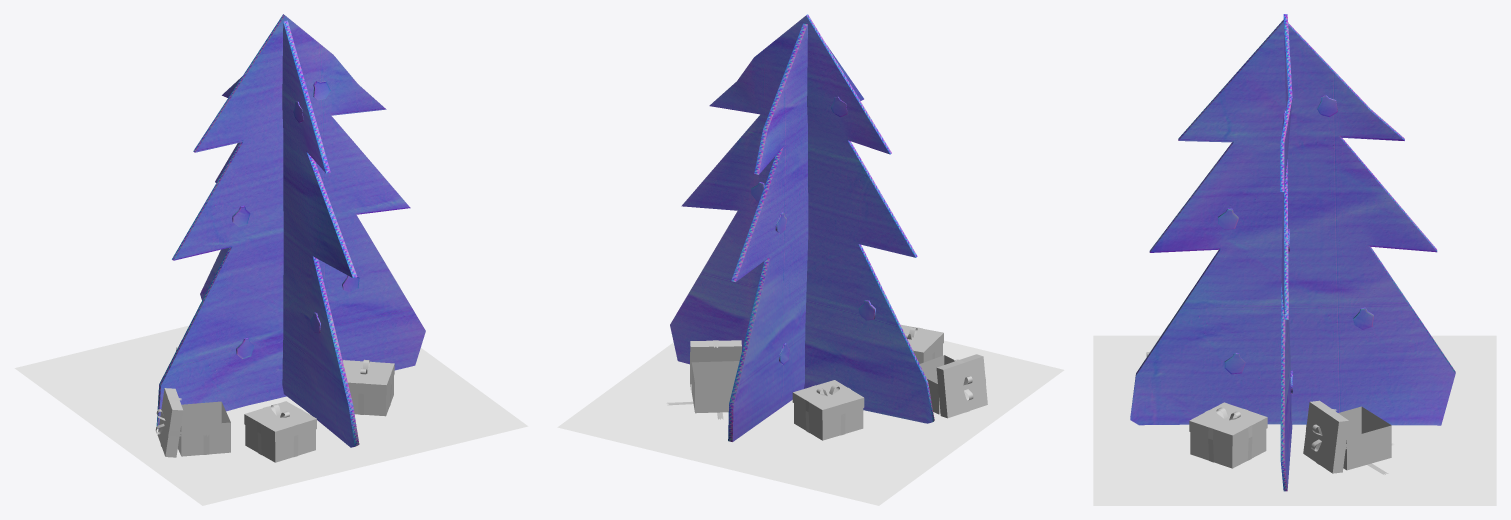
3 renders of one model, left to right at view 1: azimuth 30°, elevation 25°; view 2: azimuth 150°, elevation 25°; view 3: azimuth 270°, elevation 25°, orthographic. The views are drawn at different scales.
Visible parts, largest first — view 1: elka, Plane, gift; view 2: elka, Plane, gift; view 3: elka, Plane, gift.
Part boxes in pixels (x1,y1,x2,y2): elka: (156, 14, 425, 447); Plane: (14, 325, 528, 505); gift: (155, 347, 394, 462); elka: (670, 14, 934, 441); Plane: (557, 340, 1064, 505); gift: (666, 324, 987, 440); elka: (1130, 14, 1455, 491); Plane: (1093, 335, 1496, 505); gift: (1146, 352, 1393, 474).
Bounding box in the file's own units: 1052 × 1187 × 1052.
